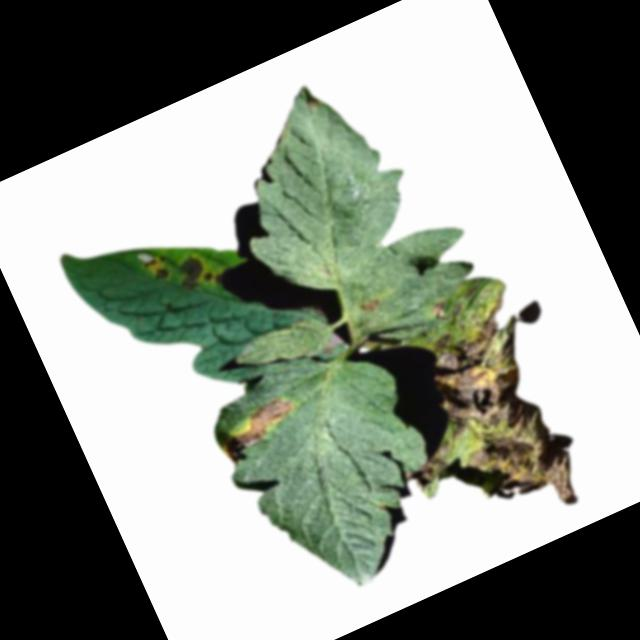Early_blight: (341, 271, 596, 564), (212, 395, 305, 468), (174, 250, 222, 296), (141, 250, 176, 289), (357, 294, 386, 319)
